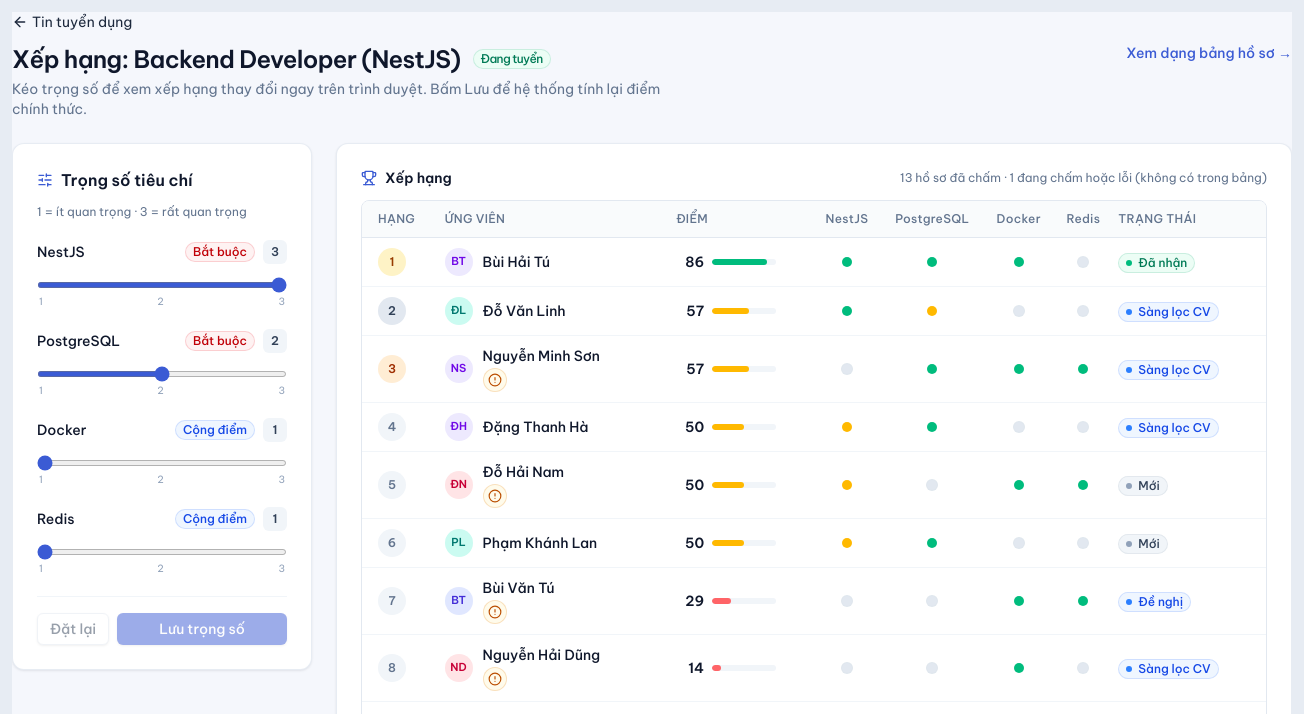
it: JobRankingPage › lets HR save the new weights
Set the slider labelled "NestJS" to "1" at (45, 285), box left=37, top=282, right=287, bottom=288
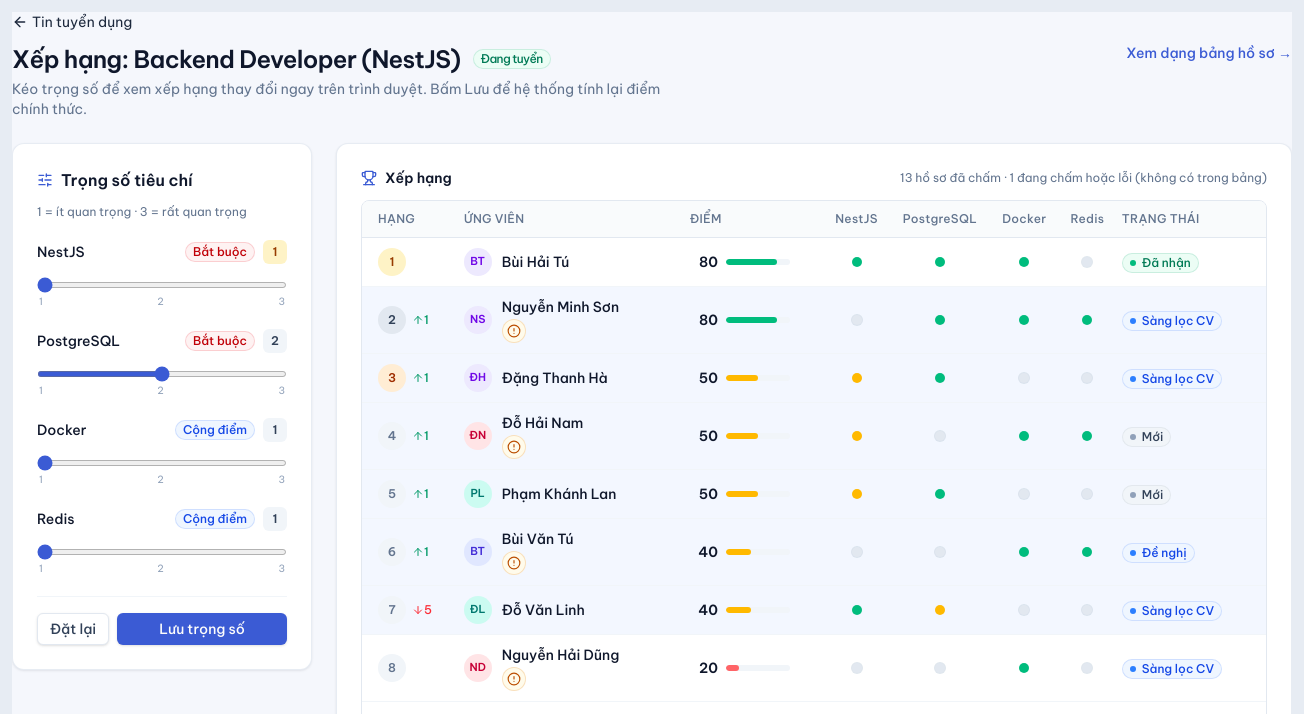
Expected: the button "Lưu trọng số" is enabled, left=117, top=613, right=287, bottom=645
